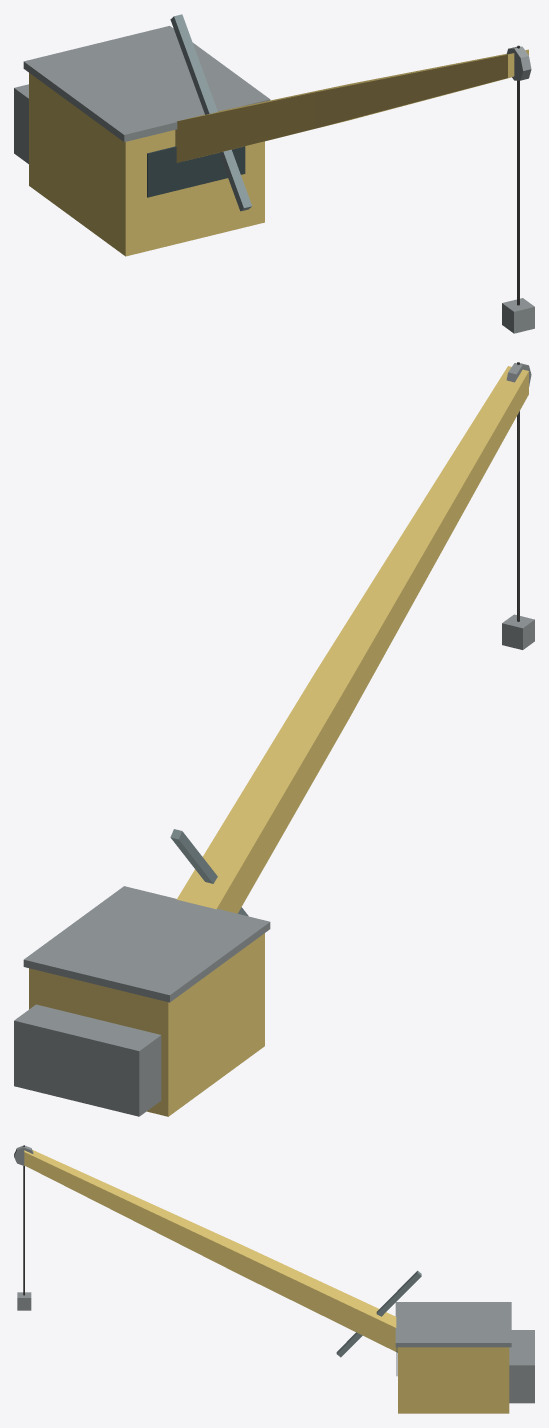
The model's file is ext_deck_crane_house.fbx.
3 renders of one model, top to bottom at view 1: azimuth 30°, elevation 25°; view 2: azimuth 150°, elevation 25°; view 3: azimuth 270°, elevation 25°, orthographic. The views are drawn at different scales.
Parts seen in each view (by area): view 1: ext_deck_crane_house; view 2: ext_deck_crane_house; view 3: ext_deck_crane_house.
Part boxes in pixels (left/top/right/bottom): ext_deck_crane_house: left=14, top=14, right=534, bottom=333; ext_deck_crane_house: left=14, top=362, right=534, bottom=1116; ext_deck_crane_house: left=14, top=1145, right=534, bottom=1413.
Size of the model in its own units: 2.1 by 5.9 by 11.21.
